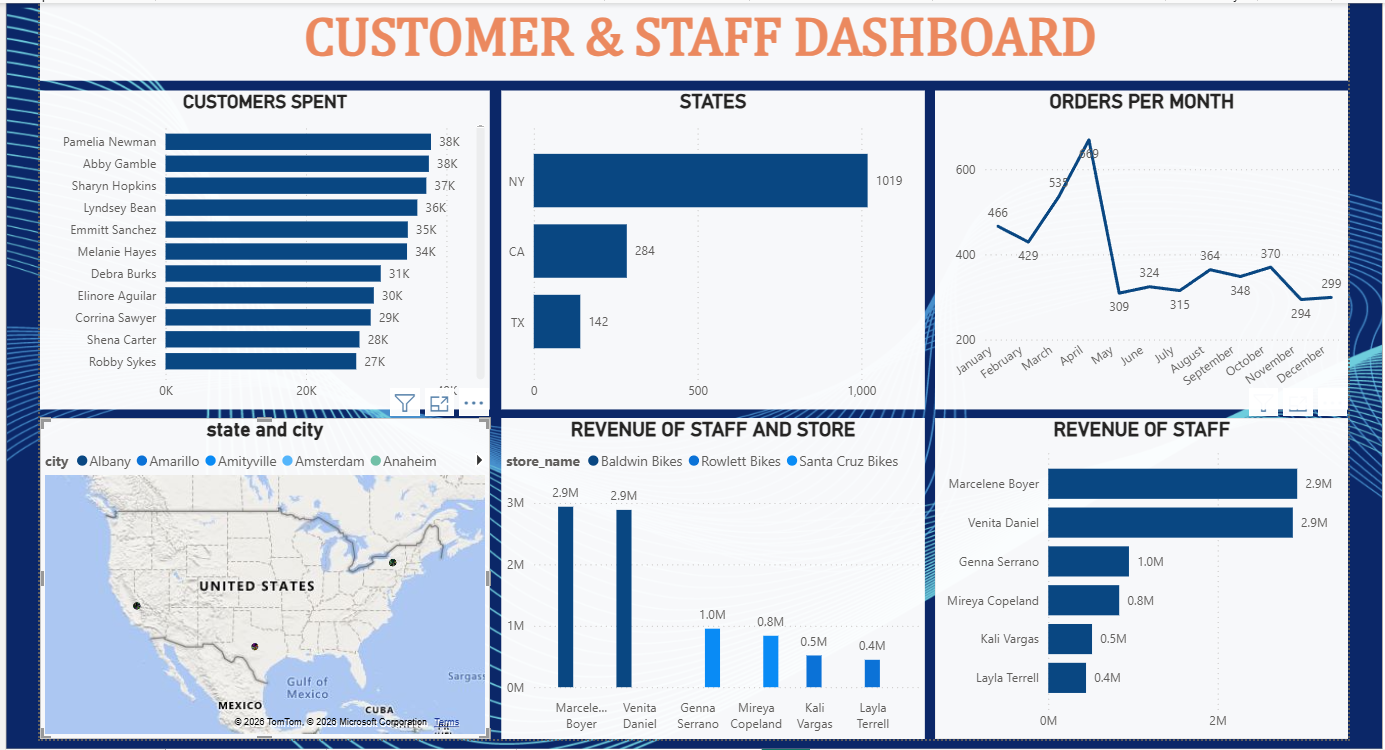

What the dashboard file says about the page in this screenshot:
{"tool":"powerbi","page":{"name":"Customer & Staff Dashboard","canvas":[1280,720],"ordinal":2},"visuals":[{"type":"barChart","title":"CUSTOMERS SPENT","fields":{"Category":["vw_customer_summary.customer_name"],"Y":["Sum(vw_customer_summary.total_spent)"]},"box":[0,85.6,440.2,311.8],"z":0},{"type":"barChart","title":"STATES","fields":{"Category":["vw_customer_summary.state"],"Y":["CountNonNull(vw_customer_summary.customer_id)"]},"box":[451.2,85.6,414.5,311.8],"z":1000},{"type":"barChart","title":"REVENUE OF STAFF","fields":{"Category":["vw_staff_performance.staff_name"],"Y":["Sum(vw_staff_performance.revenue_generated)"]},"box":[875.5,406,404.8,314.3],"z":2000},{"type":"map","fields":{"Series":["vw_customer_summary.city"],"Category":["vw_customer_summary.state"]},"box":[0,406,440.2,314.3],"z":3000},{"type":"lineChart","title":"ORDERS PER MONTH","fields":{"Category":["vw_sales_summary.order_date.Variation.Date Hierarchy.Month"],"Y":["CountNonNull(vw_sales_summary.order_id)"]},"box":[875.5,85.6,404.8,311.8],"z":4000},{"type":"clusteredColumnChart","title":"REVENUE OF STAFF AND STORE","fields":{"Category":["vw_staff_performance.staff_name"],"Y":["Sum(vw_staff_performance.revenue_generated)"],"Series":["vw_staff_performance.store_name"]},"box":[451.2,406,414.5,314.3],"z":5000},{"type":"textbox","box":[0,0,1280.3,75.8],"z":6000}]}

Visuals, with their boxes in screenshot pixels (x1, y1, x2, y2):
"CUSTOMERS SPENT" barChart: bbox=[32, 88, 485, 408]
"STATES" barChart: bbox=[496, 88, 922, 408]
"REVENUE OF STAFF" barChart: bbox=[932, 417, 1348, 740]
map - vw_customer_summary.city x vw_customer_summary.state: bbox=[32, 417, 485, 740]
"ORDERS PER MONTH" lineChart: bbox=[932, 88, 1348, 408]
"REVENUE OF STAFF AND STORE" clusteredColumnChart: bbox=[496, 417, 922, 740]
textbox: bbox=[32, 0, 1348, 78]
